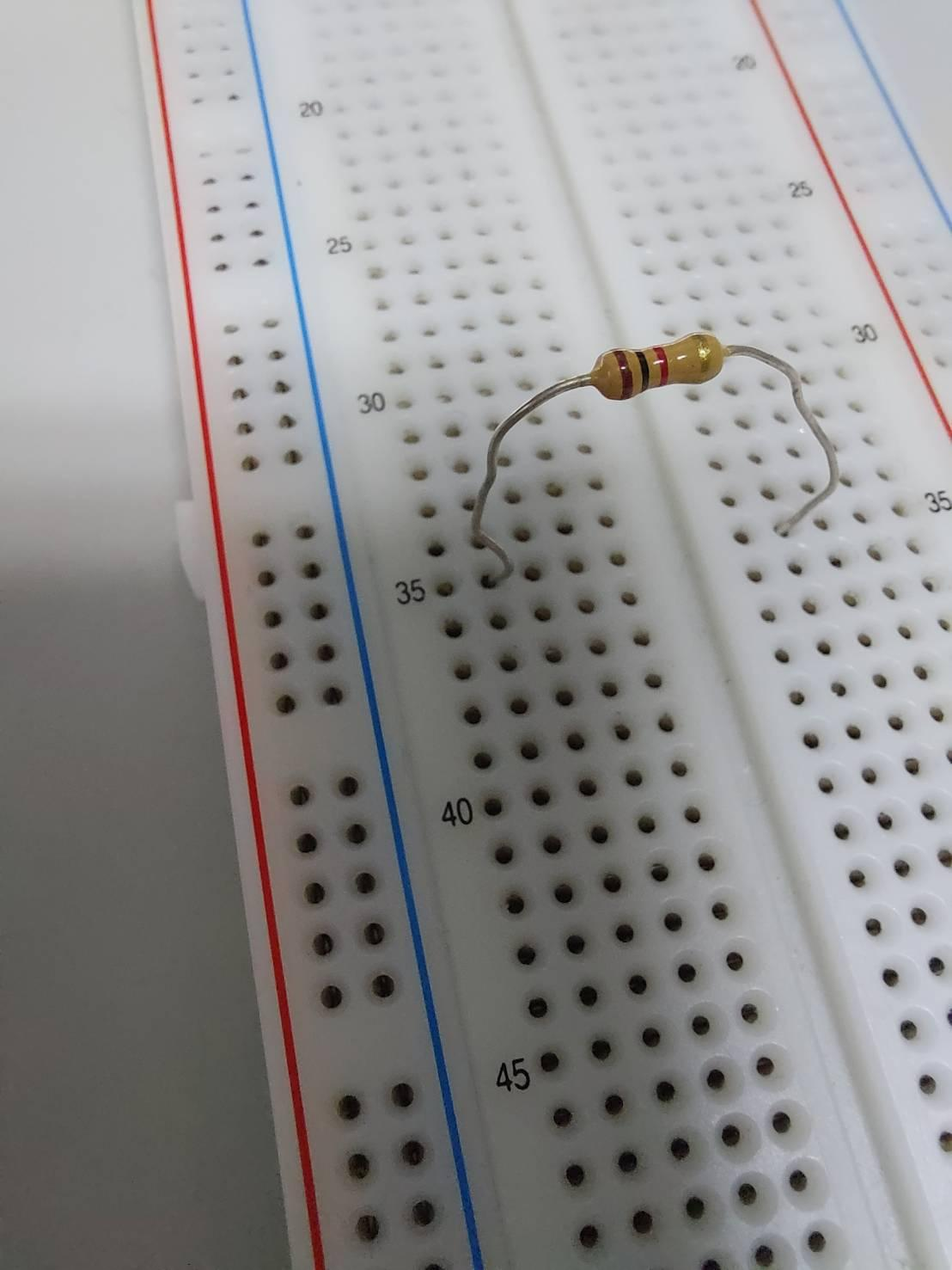resistor: (594, 332, 725, 404)
